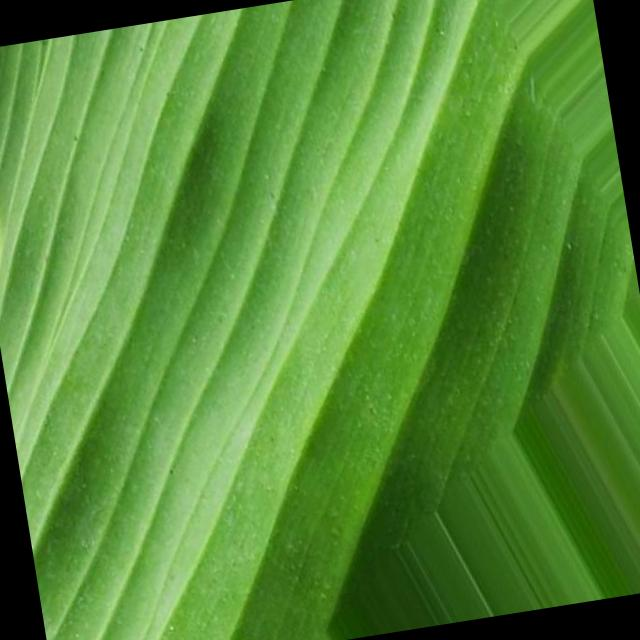Banana_Healthy: (45, 92, 513, 510)
